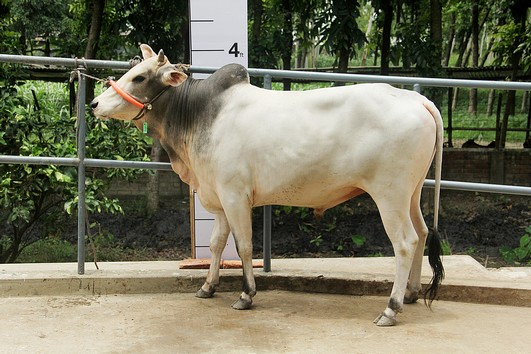cow: (86, 38, 447, 330)
